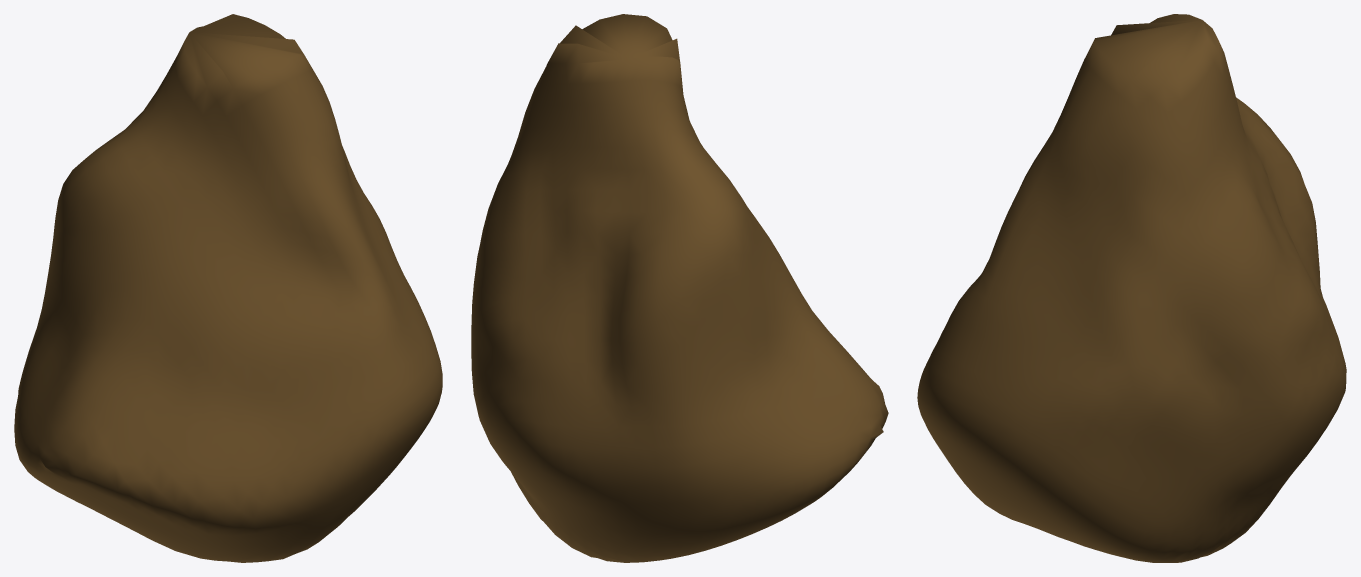
The model's file is loot_bag.fbx.
The picture shows the model from 3 angles, left to right: view 1: azimuth 30°, elevation 25°; view 2: azimuth 150°, elevation 25°; view 3: azimuth 270°, elevation 25°; orthographic projection. The views are drawn at different scales.
Visible parts, largest first — view 1: Sphere; view 2: Sphere; view 3: Sphere.
Part boxes in pixels (bbox=[...]): Sphere: bbox=[14, 14, 442, 562]; Sphere: bbox=[471, 14, 888, 562]; Sphere: bbox=[917, 14, 1346, 562].
Bounding box in the file's own units: 72.46 × 90 × 67.92.
